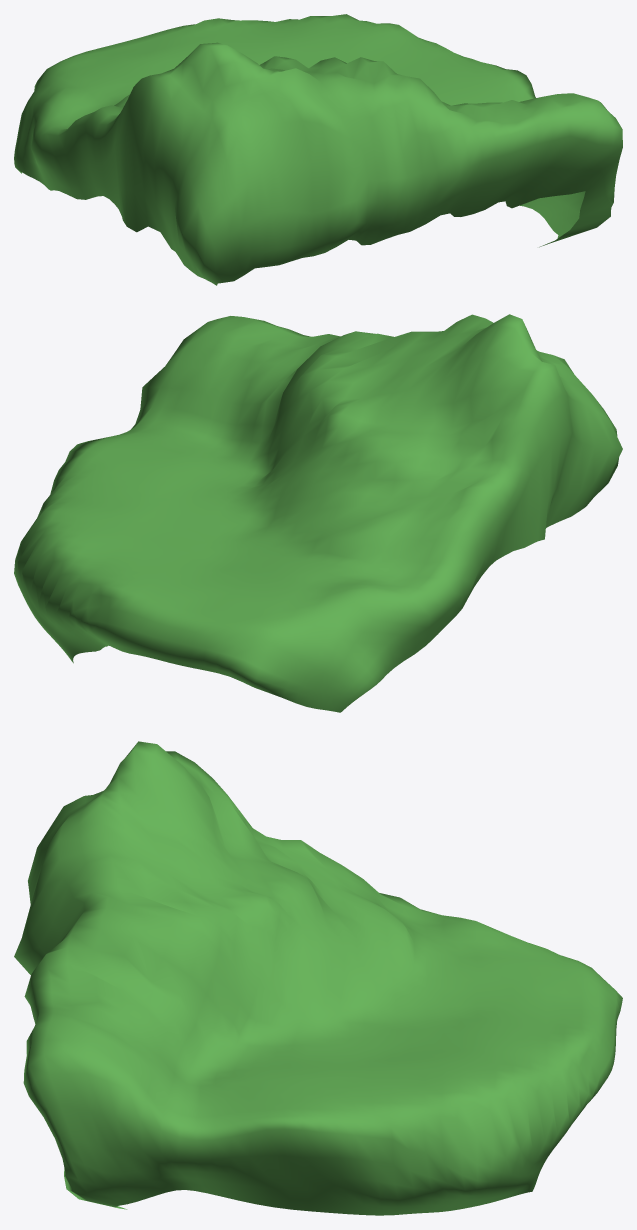
Rendered from TerrainIsland.fbx.
3 views of the same model, one above another, from view 1: azimuth 30°, elevation 25°; view 2: azimuth 150°, elevation 25°; view 3: azimuth 270°, elevation 25° (orthographic). The views are drawn at different scales.
Parts seen in each view (by area): view 1: TerrainIsland; view 2: TerrainIsland; view 3: TerrainIsland.
Part boxes in pixels (<box>): TerrainIsland: <box>14,14,622,285</box>; TerrainIsland: <box>14,314,622,712</box>; TerrainIsland: <box>14,741,622,1215</box>.
Bounding box in the file's own units: 1680 × 1024 × 1823.
